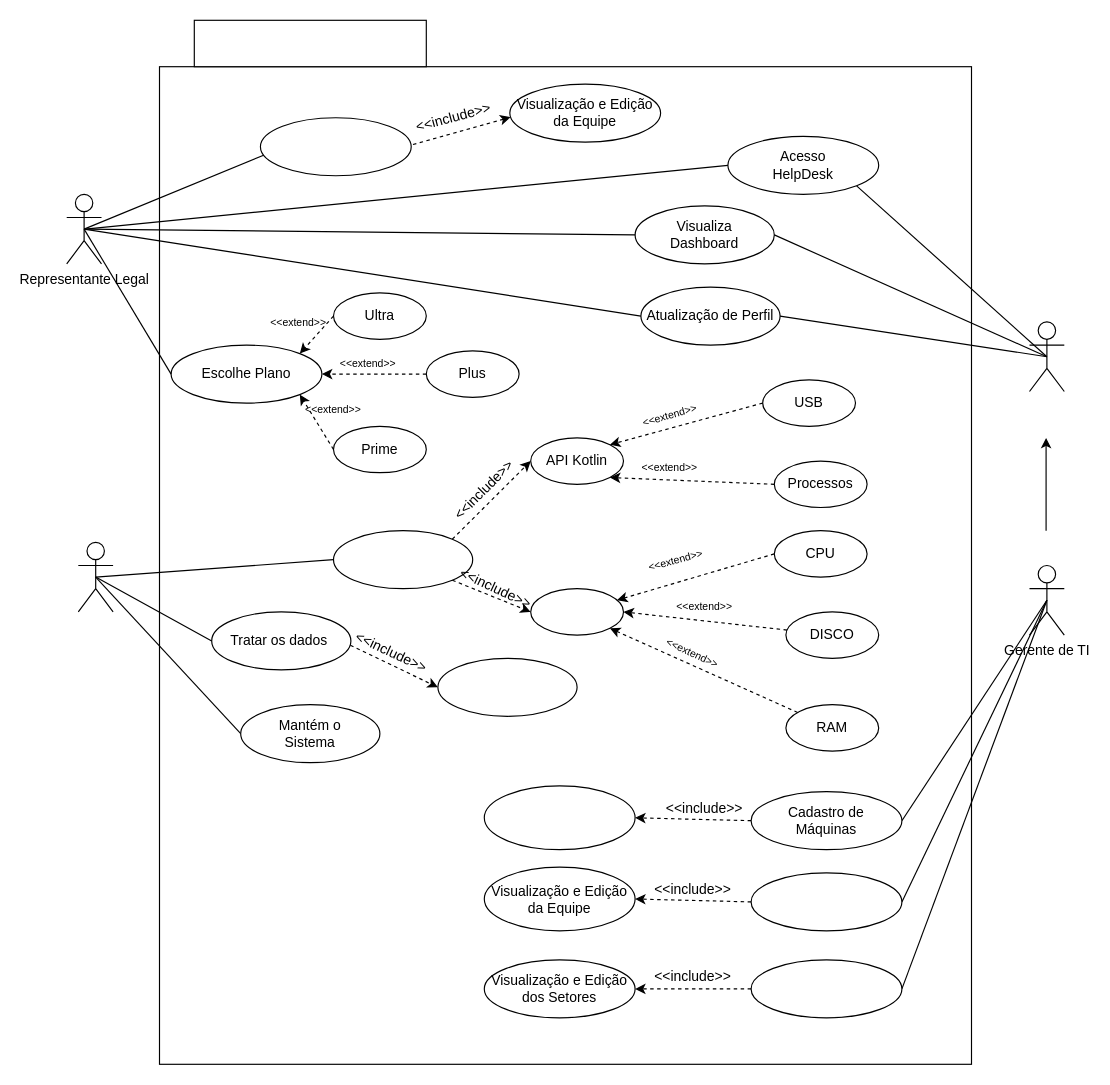
This 1110x1085 diagram has some shape labels left out. Each missing label, with the centre of its shape:
"API Python" belongs at point (577, 611).
"Cadastro Equipe de TI" belongs at point (826, 901).
"Cadastro Gerente de Ti" belongs at point (335, 146).
"Cadastro Setores" belongs at point (826, 988).
"Capturar dados da máquina" belongs at point (402, 559).
"Equipe de TI" belongs at point (1046, 356).
"Fornecer Insights" belongs at point (507, 686).
"Health Touch" belongs at point (95, 576).
"Sistema da Heath Touch" belongs at point (309, 43).
"Visualização e Edição das Máquinas" belongs at point (559, 817).
